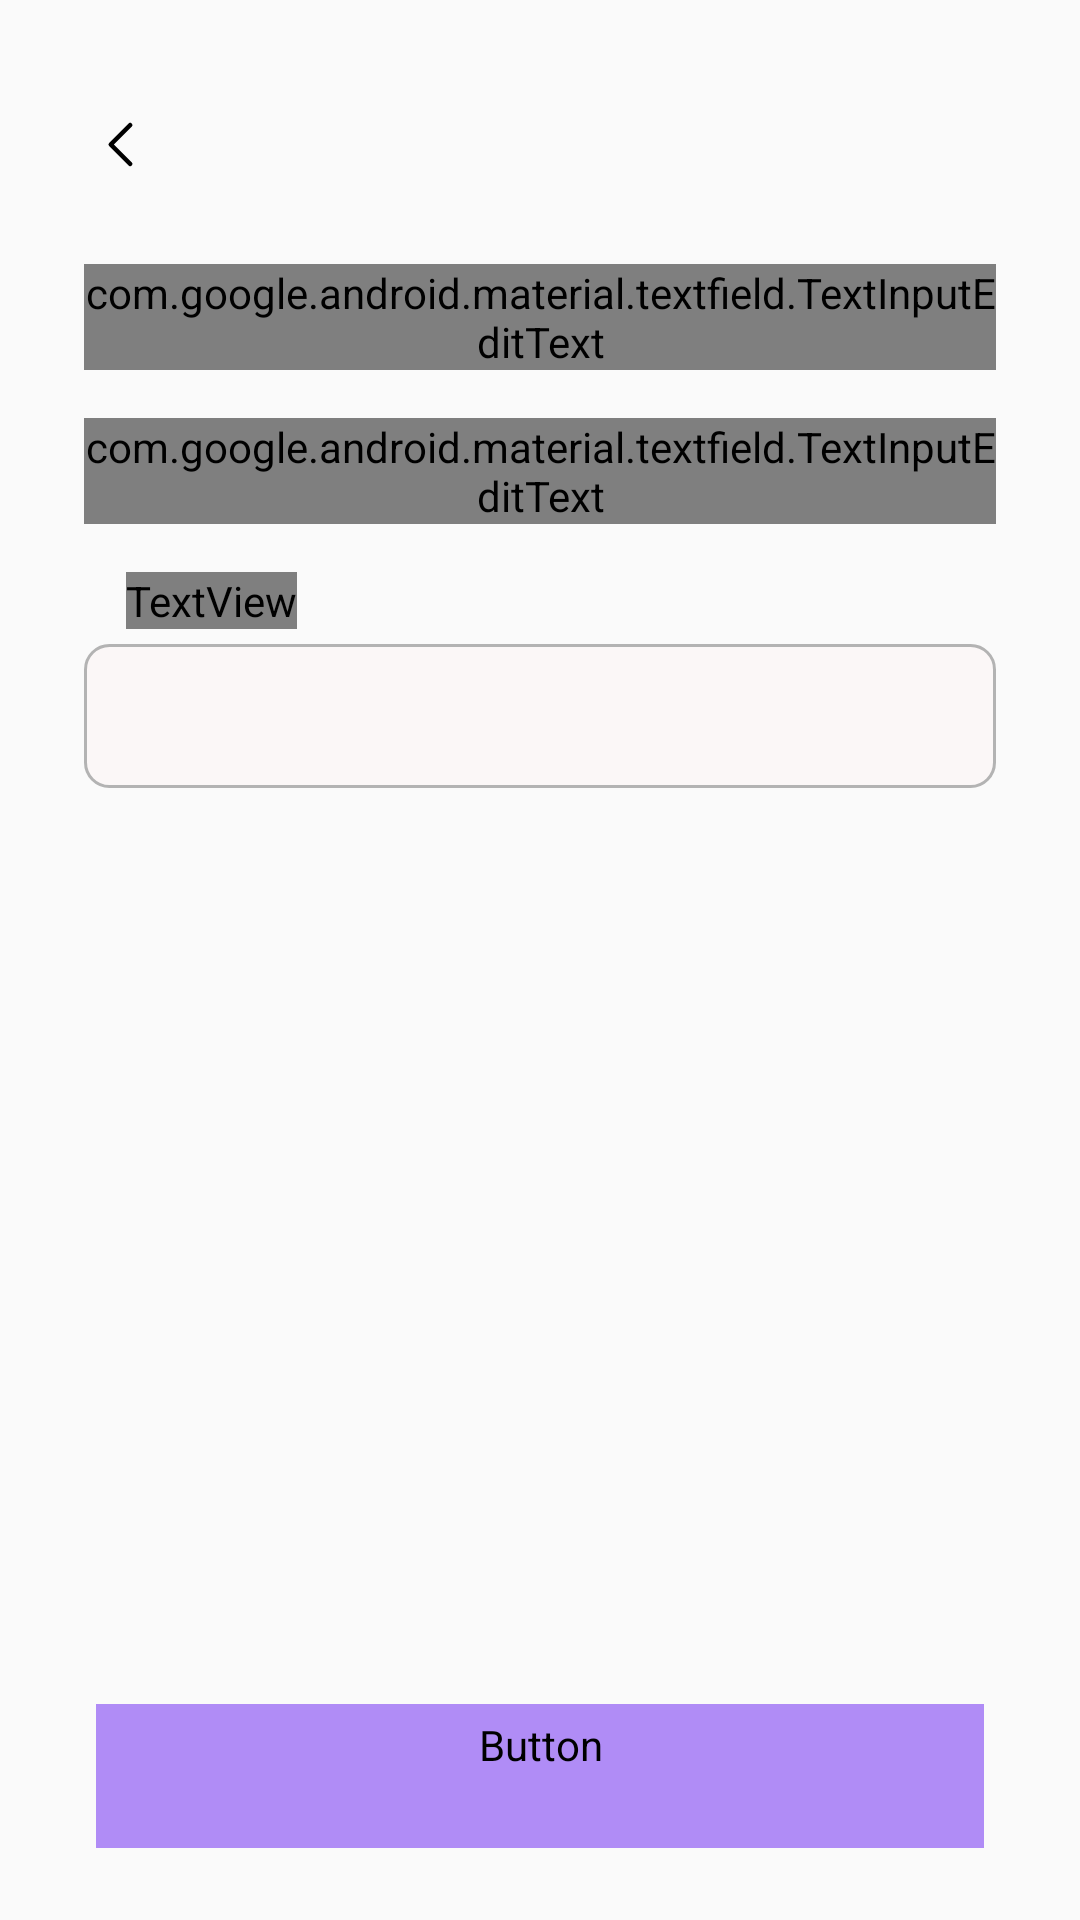

Named icons in this screenshot (1080*1920) and their centers, [x,y]:
Back: [120,144]
